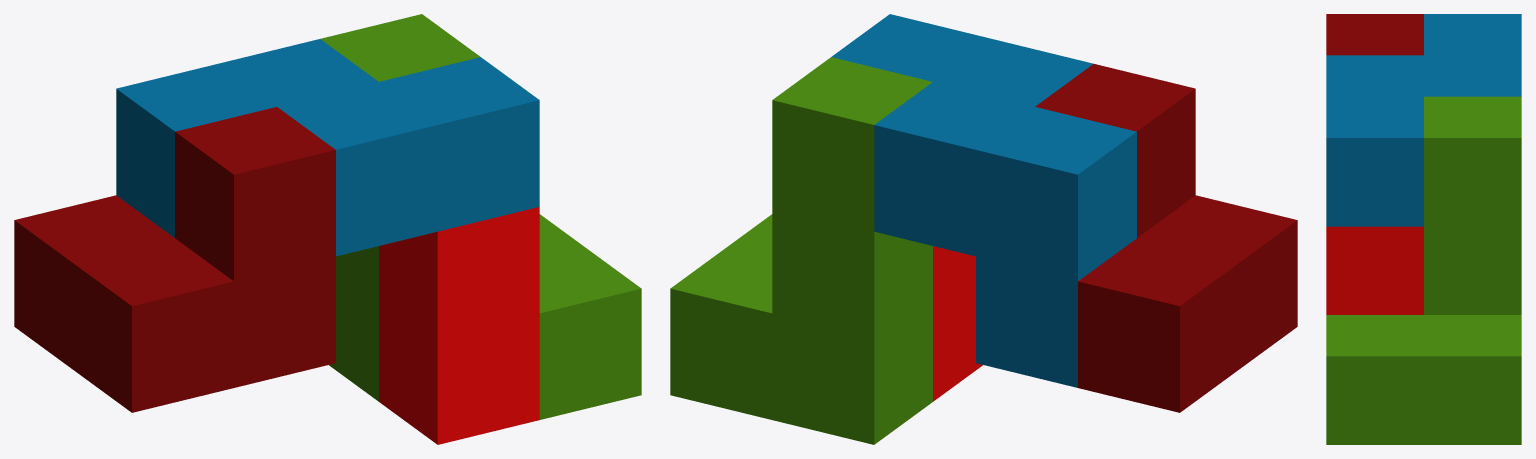
The picture shows the model from 3 angles, left to right: view 1: azimuth 30°, elevation 25°; view 2: azimuth 150°, elevation 25°; view 3: azimuth 270°, elevation 25°; orthographic projection. The views are drawn at different scales.
Visible parts, largest first — view 1: mergedBlocks(Clone); view 2: mergedBlocks(Clone); view 3: mergedBlocks(Clone).
Boxes of the visible parts, x1,y1,x2,y2 form: mergedBlocks(Clone): (14,14,641,444); mergedBlocks(Clone): (670,14,1297,444); mergedBlocks(Clone): (1326,14,1521,444).
Bounding box in the file's own units: 5 × 3 × 2.
Materials: 4 (4 with a texture image).
